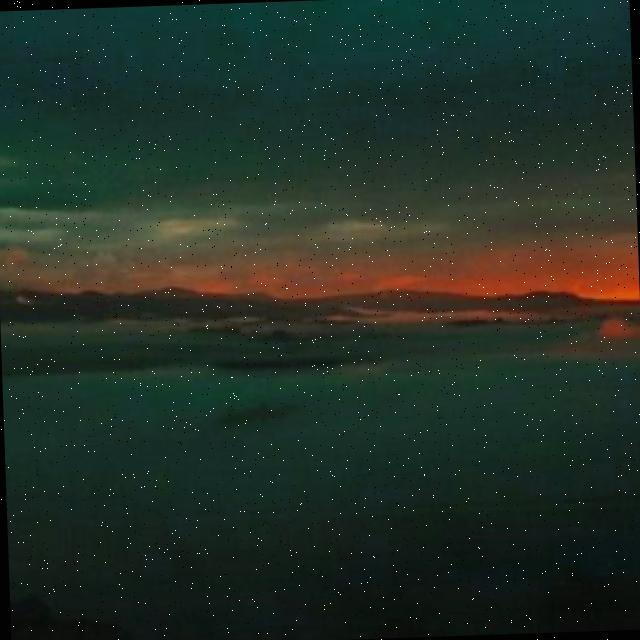Ns: (1, 75, 640, 304)
